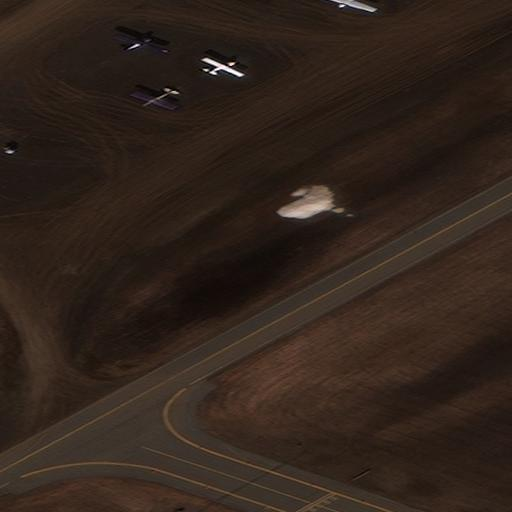Small Civil Transport: (128, 87, 174, 110), (115, 33, 168, 51), (203, 56, 245, 76), (323, 0, 373, 12)
